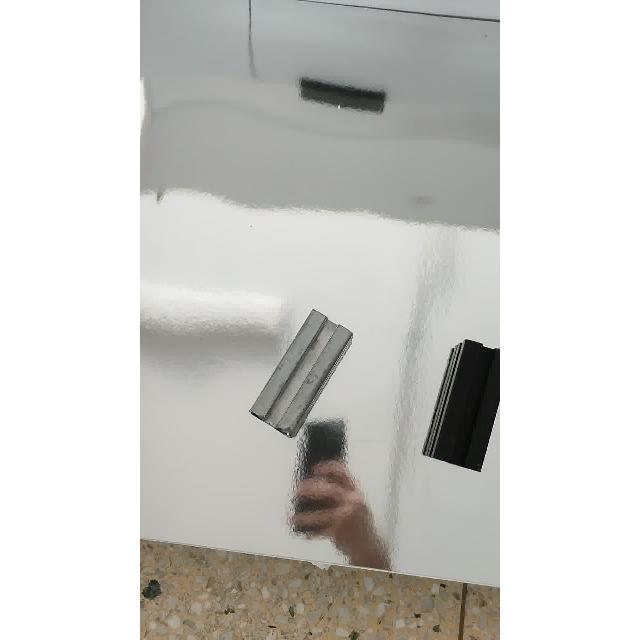S40_40_B: (418, 334, 500, 476)
S40_40_G: (246, 306, 358, 439)
